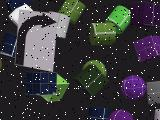Right: (15, 10, 58, 72)
